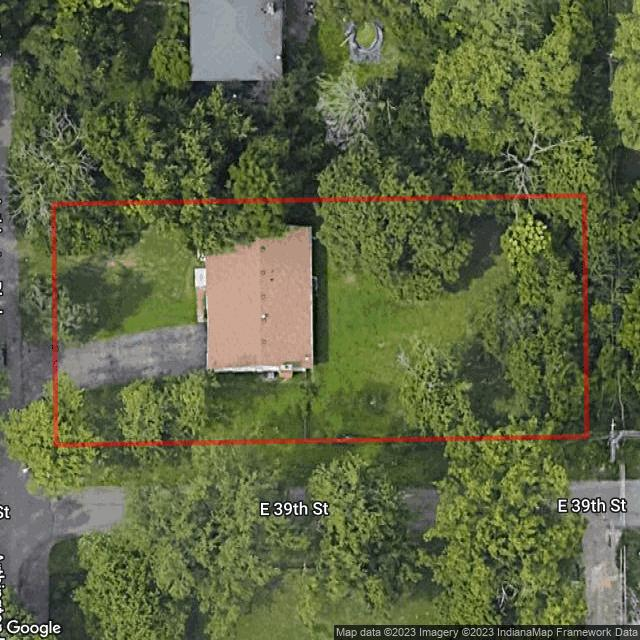Driveway: (57, 321, 207, 395)
Extra Driveway: (21, 346, 54, 411), (0, 341, 23, 421)
Extra Lawn: (18, 204, 53, 347), (21, 395, 55, 445)
Extra Sidewalk: (0, 206, 21, 343), (0, 415, 21, 447)
House: (192, 228, 314, 374)
